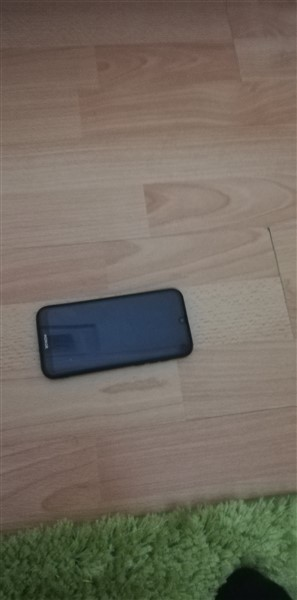telefon: (29, 287, 199, 381)
